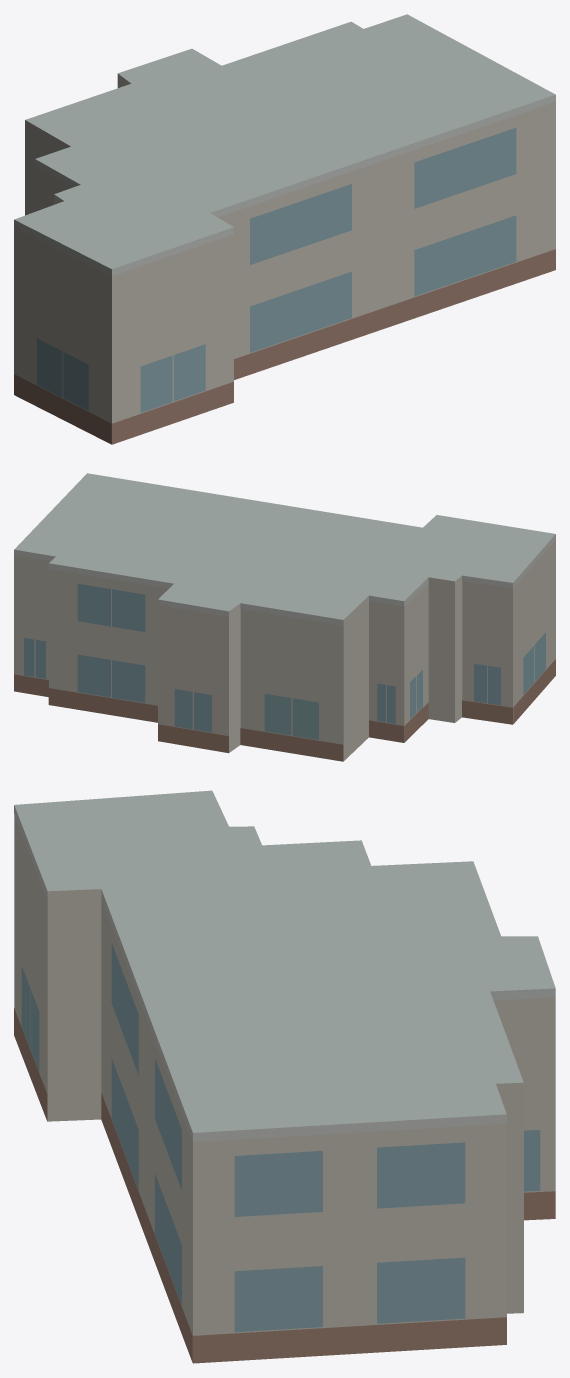
Rendered from survey-upis-32707874.glb.
3 views of the same model, one above another, from view 1: azimuth 30°, elevation 25°; view 2: azimuth 150°, elevation 25°; view 3: azimuth 270°, elevation 25° (orthographic). The views are drawn at different scales.
Parts seen in each view (by area): view 1: survey-upis-32707874.tmp; view 2: survey-upis-32707874.tmp; view 3: survey-upis-32707874.tmp.
Boxes of the visible parts, x1=… form: survey-upis-32707874.tmp: x1=14, y1=14, x2=555, y2=444; survey-upis-32707874.tmp: x1=14, y1=473, x2=555, y2=761; survey-upis-32707874.tmp: x1=14, y1=790, x2=555, y2=1363.
Bounding box in the file's own units: 19.46 × 6.1 × 13.01.
